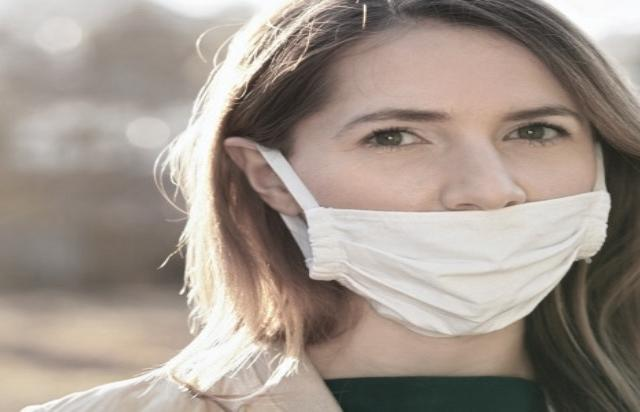mask_weared_incorrect: (185, 1, 613, 341)
